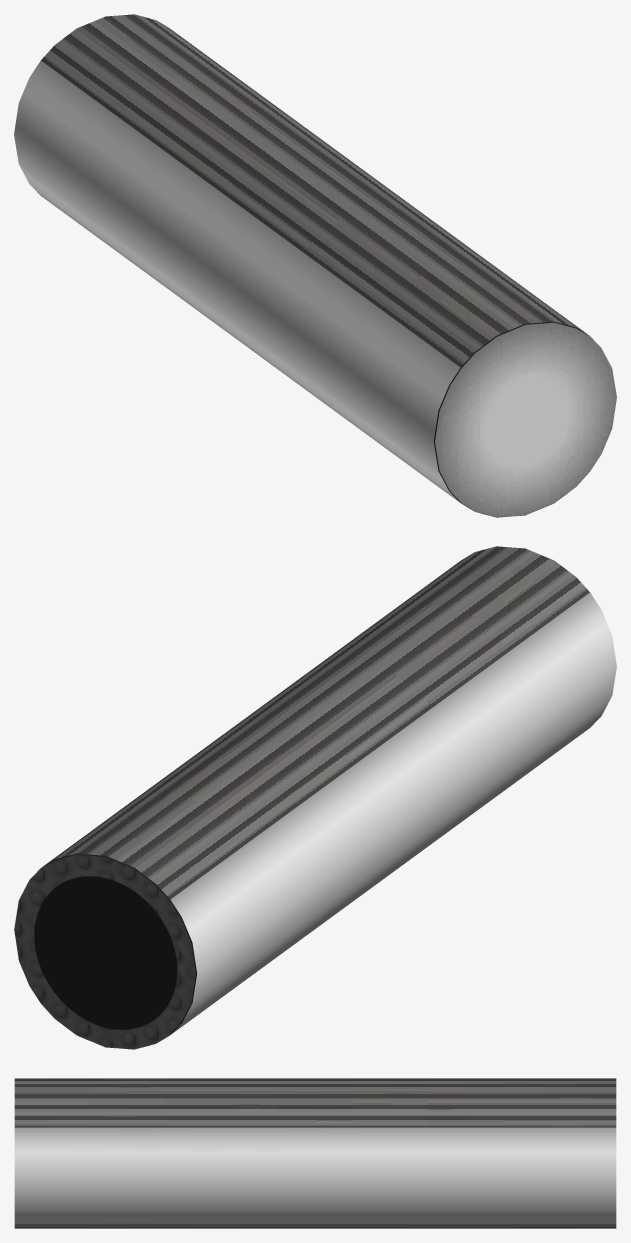
The model's file is automaticlaser.obj.
3 renders of one model, top to bottom at view 1: azimuth 30°, elevation 25°; view 2: azimuth 150°, elevation 25°; view 3: azimuth 270°, elevation 25°, orthographic. The views are drawn at different scales.
Parts seen in each view (by area): view 1: Automaticlaser7, Automaticlaser3, Automaticlaser5; view 2: Automaticlaser7, Automaticlaser3, Automaticlaser2; view 3: Automaticlaser6, Automaticlaser3, Automaticlaser4.
Part boxes in pixels (box(x1,y1,x2,y2)): Automaticlaser7: box(14, 60, 460, 502); Automaticlaser3: box(41, 14, 587, 367); Automaticlaser5: box(435, 322, 616, 516); Automaticlaser7: box(170, 592, 616, 1034); Automaticlaser3: box(43, 546, 589, 899); Automaticlaser2: box(14, 854, 195, 1048); Automaticlaser6: box(14, 1127, 616, 1224); Automaticlaser3: box(14, 1078, 616, 1127); Automaticlaser4: box(14, 1224, 616, 1228).
Bounding box in the file's own units: 5.04 × 5.04 × 20.04.
Materials: 5 (4 with a texture image).
